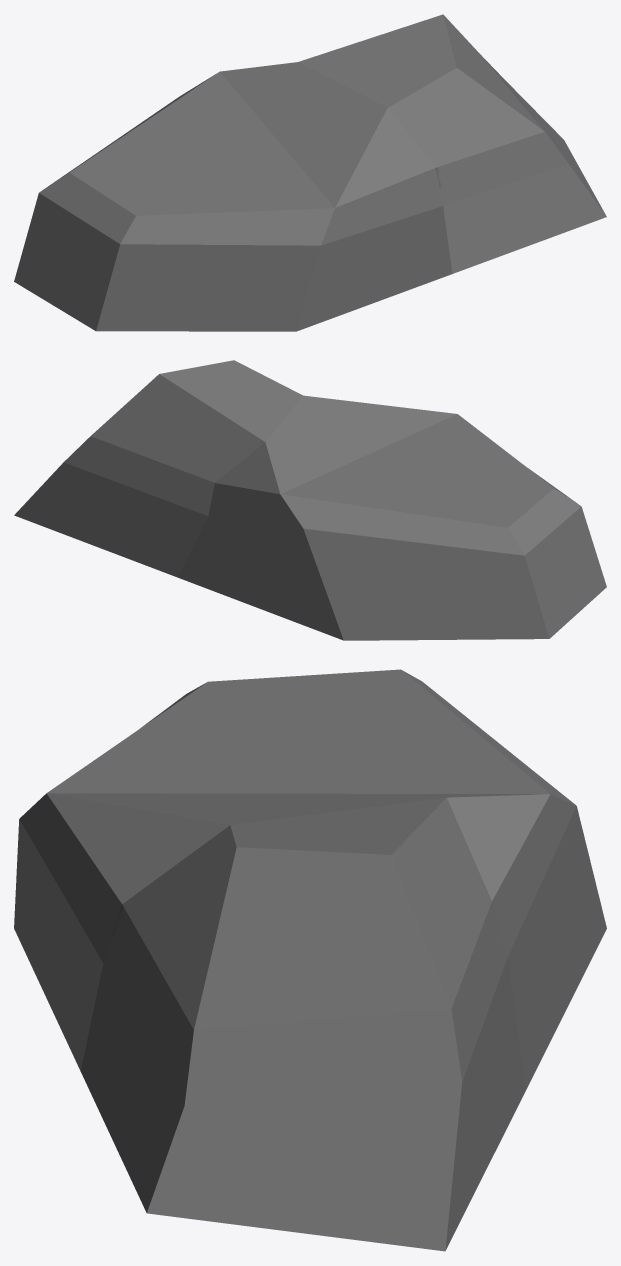
Rendered from kaya1.fbx.
3 views of the same model, one above another, from view 1: azimuth 30°, elevation 25°; view 2: azimuth 150°, elevation 25°; view 3: azimuth 270°, elevation 25° (orthographic). The views are drawn at different scales.
Visible parts, largest first — view 1: Kaya1; view 2: Kaya1; view 3: Kaya1.
Part boxes in pixels (bbox=[...]): Kaya1: bbox=[14, 14, 606, 331]; Kaya1: bbox=[14, 360, 606, 640]; Kaya1: bbox=[14, 669, 606, 1251].
Bounding box in the file's own units: 1.12 × 0.328 × 0.6184.
Materials: 1 (1 with a texture image).
